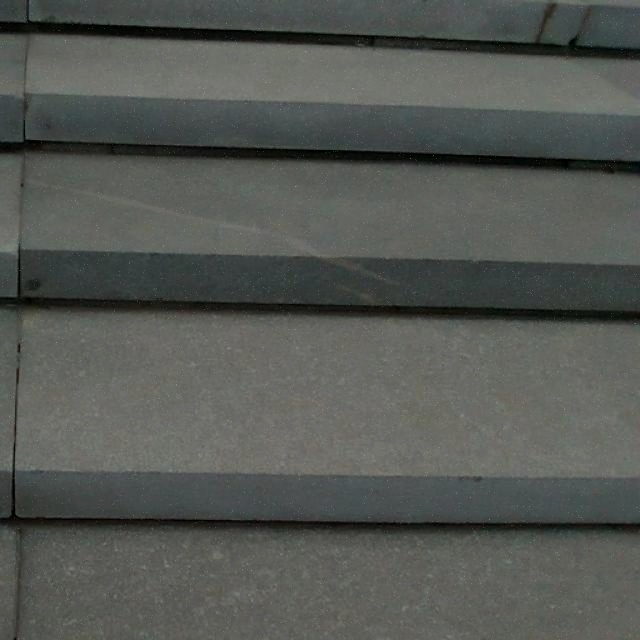stair: (0, 5, 618, 581)
